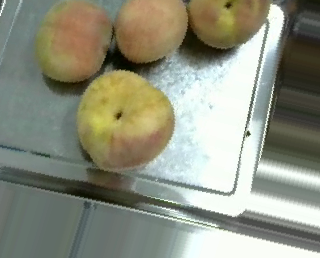Peach: (76, 68, 173, 171), (35, 0, 113, 83), (110, 0, 184, 64), (187, 0, 271, 50)
